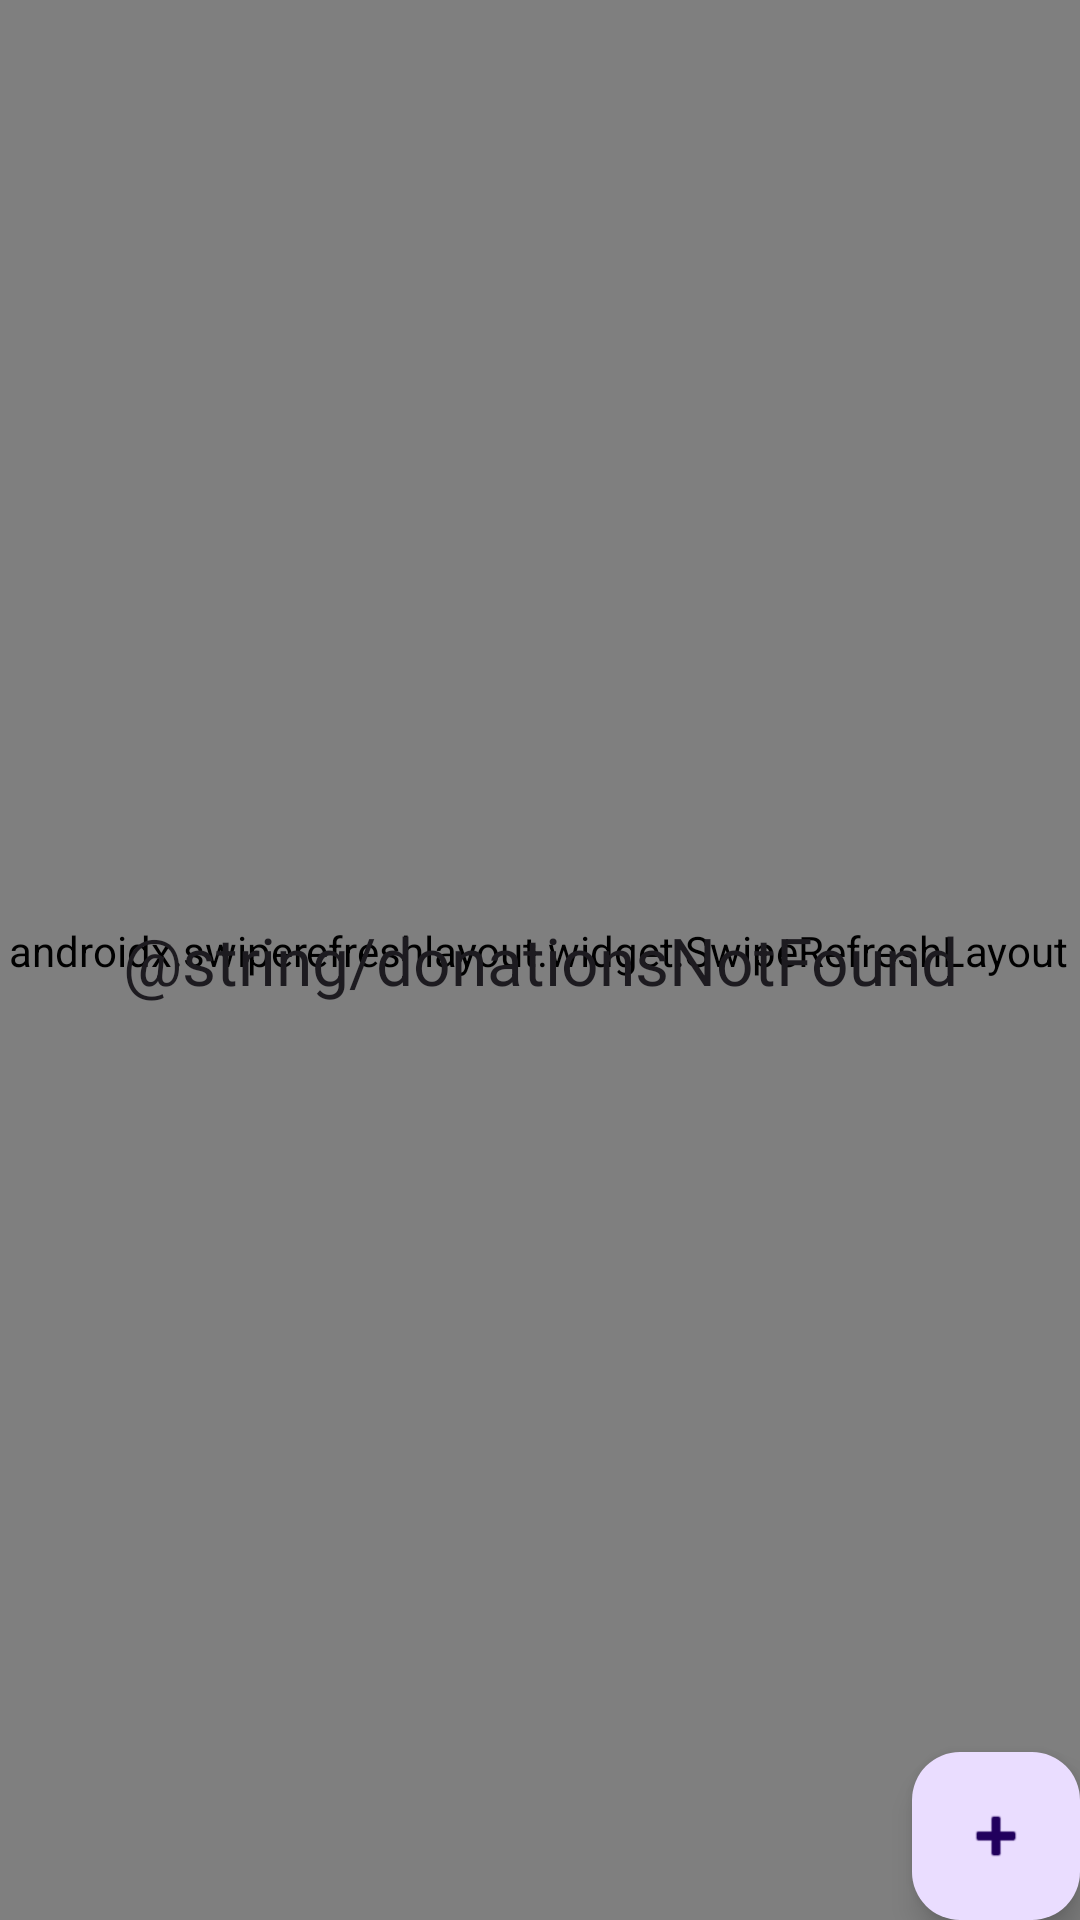

Icons on this 1080px x 1920px Android screen, each with its box as (x1, y1, x2, y2):
add: (912, 1752, 1080, 1920)
